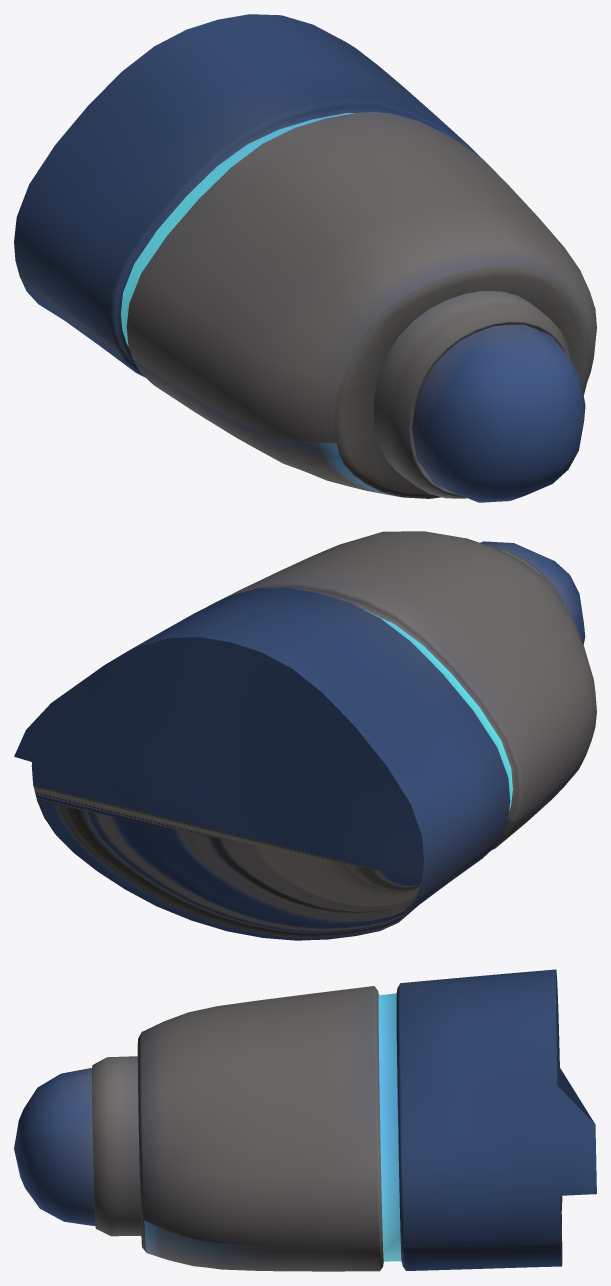
File: quest-blue-forearm-right.glb
3 views of the same model, one above another, from view 1: azimuth 30°, elevation 25°; view 2: azimuth 150°, elevation 25°; view 3: azimuth 270°, elevation 25° (orthographic). The views are drawn at different scales.
Visible parts, largest first — view 1: quest-blue-forearm-right; view 2: quest-blue-forearm-right; view 3: quest-blue-forearm-right.
Part boxes in pixels (x1,y1,x2,y2): quest-blue-forearm-right: (14, 14, 596, 502); quest-blue-forearm-right: (14, 531, 596, 940); quest-blue-forearm-right: (14, 969, 596, 1271).
Bounding box in the file's own units: 0.1744 × 0.1282 × 0.2575.
2 materials, 2 textured.
